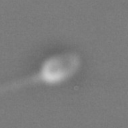normal: (1, 71, 41, 104)
